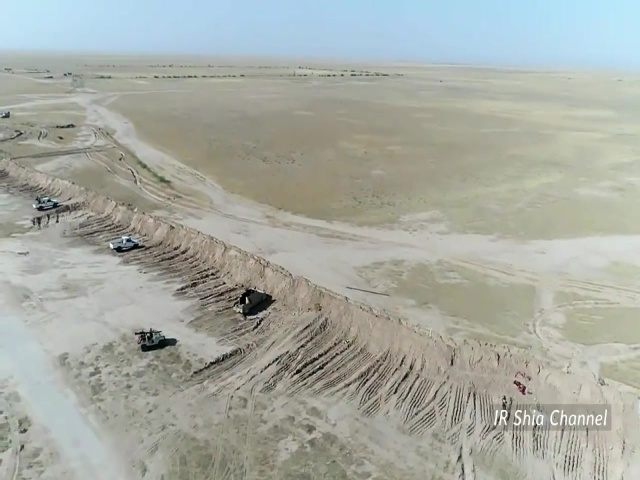vehicle: (232, 287, 267, 316), (137, 327, 167, 351), (110, 236, 140, 251), (33, 197, 58, 211)
